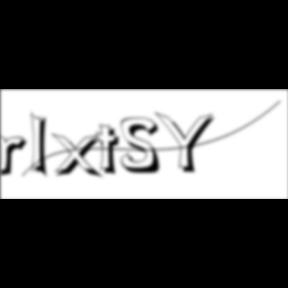I: (31, 110, 55, 182)
S: (121, 117, 167, 176)
Y: (154, 110, 222, 176)
r: (0, 134, 34, 180)
t: (96, 124, 128, 179)
x: (52, 132, 106, 181)
